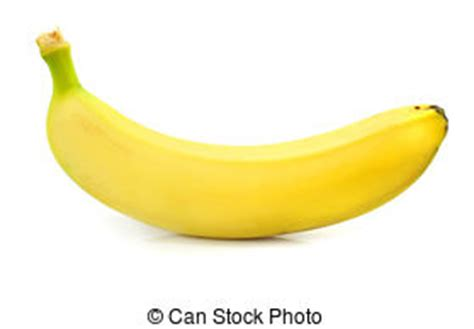???: (35, 28, 449, 239)
